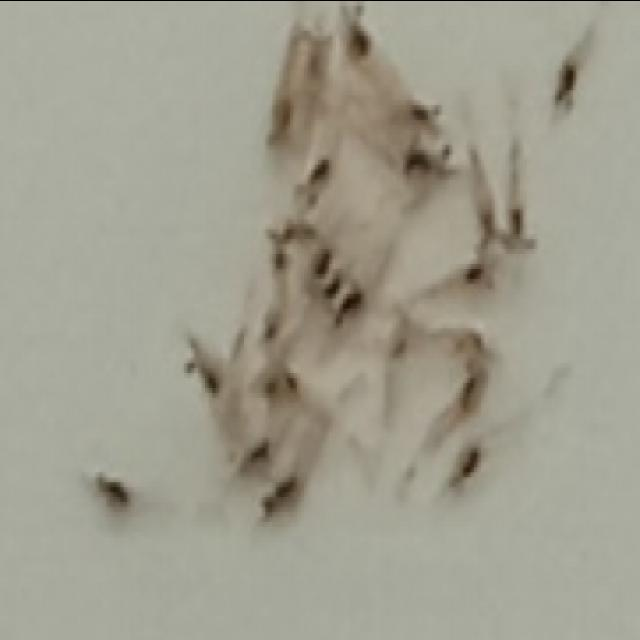shrimp-seed: (432, 377, 486, 445), (442, 436, 489, 508), (258, 470, 310, 528), (398, 137, 451, 193), (336, 7, 378, 74), (446, 322, 496, 378), (497, 192, 537, 260), (87, 458, 135, 514), (284, 156, 330, 213), (227, 431, 271, 486), (178, 341, 218, 399), (464, 203, 504, 261), (450, 249, 498, 297), (327, 280, 368, 336), (396, 80, 444, 126), (546, 61, 580, 121), (262, 100, 296, 158), (299, 27, 326, 99), (279, 204, 315, 256), (248, 307, 290, 351), (261, 232, 293, 286), (316, 266, 350, 302), (276, 359, 302, 404), (252, 366, 278, 406), (306, 245, 330, 281)
